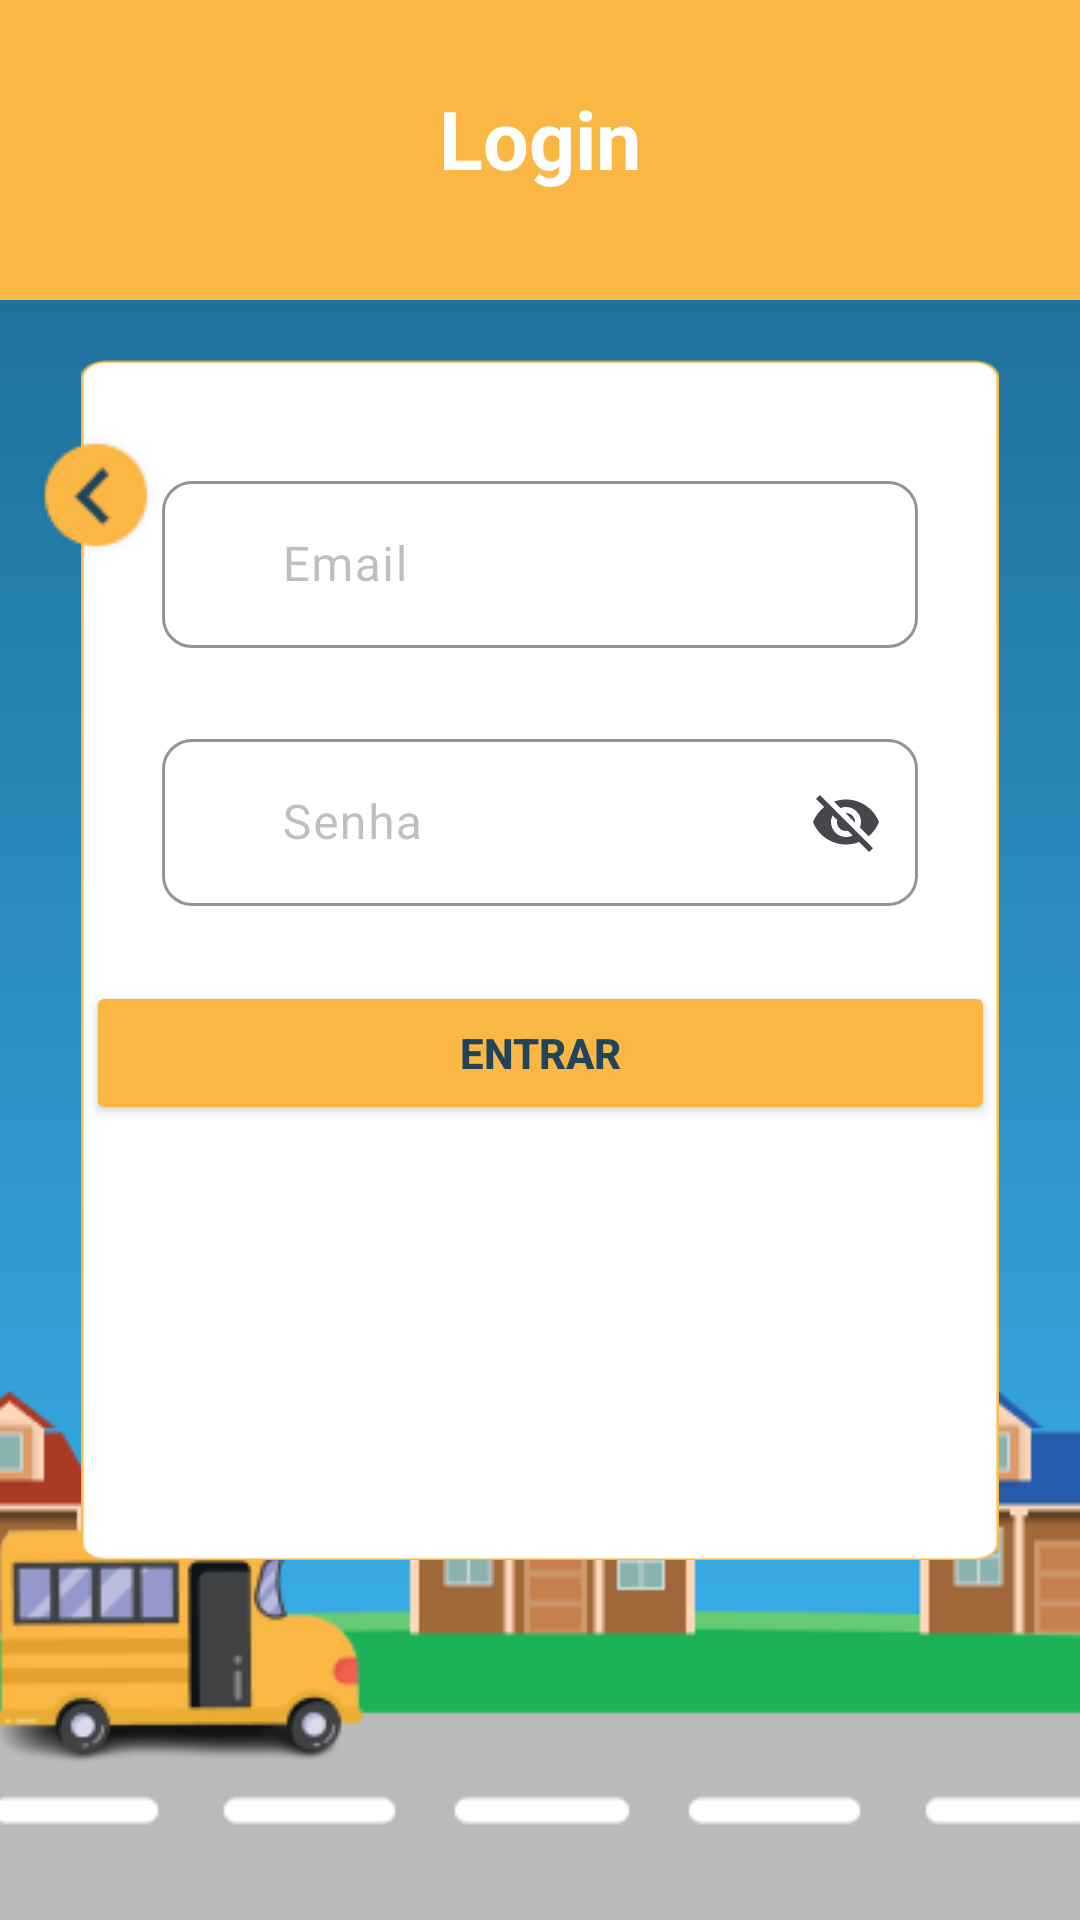

Screen size 1080*1920. Icon name, then its center in pixels as point (x, y):
btngoback: point (96, 495)
